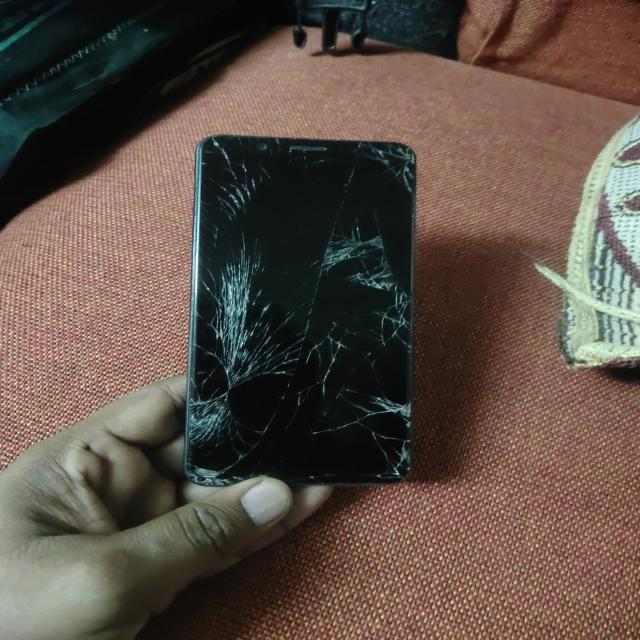Crack: (185, 129, 411, 478)
